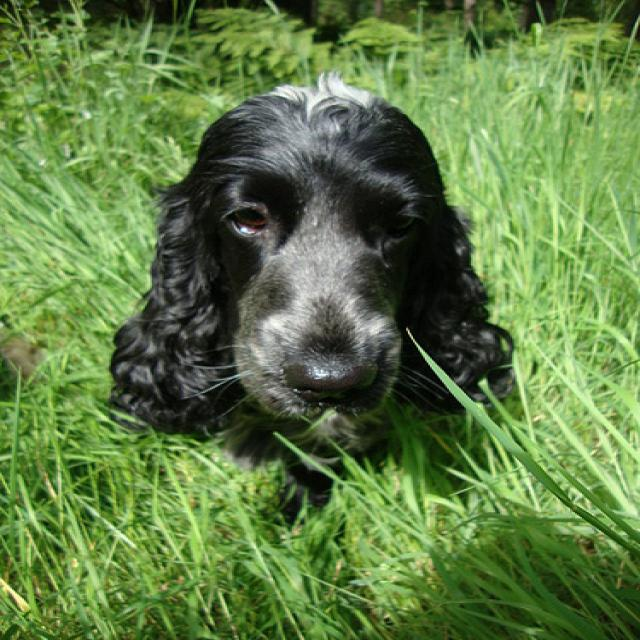dog-english_cocker_spaniel: (96, 65, 532, 541)
